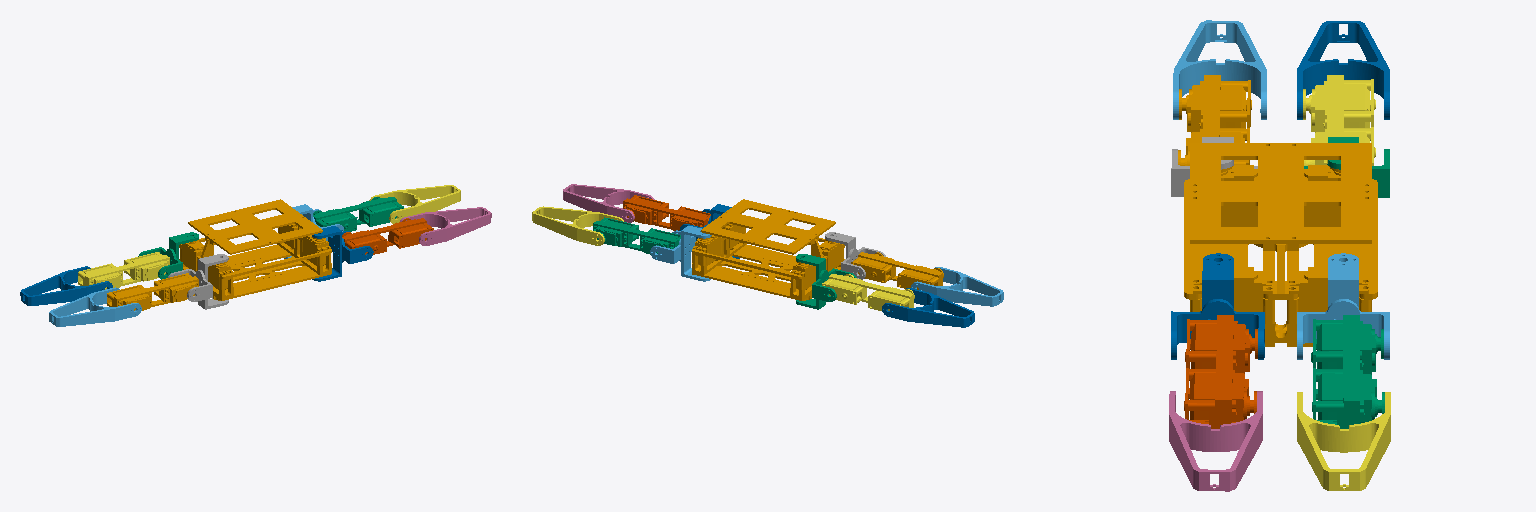
The robot description file, URDF, robot "SpiderRobot":
<?xml version='1.0' encoding='utf-8'?>
<robot name="SpiderRobot">
    <link name="base_link">
        <inertial>
            <origin xyz="-0.010492703972411217 0.016854730626846903 0.07862425311946987" rpy="0.0 0.0 0.0" />
            <mass value="0.631" />
            <inertia ixx="0.0005393004159345456" iyy="0.001539774473363255" izz="0.0017494035587408148" ixy="-5.404786737587164e-10" iyz="2.1940389012976153e-11" ixz="2.3999350412789305e-11" />
        </inertial>
        <visual name="base_link_visual">
            <origin xyz="0.0 0.0 0.0" rpy="0.0 0.0 0.0" />
            <geometry>
                <mesh filename="meshes/base_link.stl" scale="0.001 0.001 0.001" />
            </geometry>
        </visual>
        <collision name="base_link_collision">
            <origin xyz="0.0 0.0 0.0" rpy="0.0 0.0 0.0" />
            <geometry>
                <mesh filename="meshes/base_link.stl" scale="0.001 0.001 0.001" />
            </geometry>
        </collision>
    </link>
    <link name="old_component-1">
        <inertial>
            <origin xyz="0.03102946178102161 0.0004117198775454867 0.03072335867217019" rpy="0.0 -0.0 0.0" />
            <mass value="0.02" />
            <inertia ixx="1.6385663510255012e-05" iyy="1.5781203506995683e-05" izz="1.2529309357035321e-05" ixy="-1.7196919709375536e-09" iyz="-1.1559686412983363e-09" ixz="4.063183613644339e-07" />
        </inertial>
        <visual name="old_component-1_visual">
            <origin xyz="-0.089904494461947 -0.013444060076469953 0.1050114200000001" rpy="3.14159265358979 1.426096220858511e-15 0.8552113334772216" />
            <geometry>
                <mesh filename="meshes/old_component-1.stl" scale="0.001 0.001 0.001" />
            </geometry>
        </visual>
        <collision name="old_component-1_collision">
            <origin xyz="-0.089904494461947 -0.013444060076469953 0.1050114200000001" rpy="3.14159265358979 1.426096220858511e-15 0.8552113334772216" />
            <geometry>
                <mesh filename="meshes/old_component-1.stl" scale="0.001 0.001 0.001" />
            </geometry>
        </collision>
    </link>
    <link name="old_component-2">
        <inertial>
            <origin xyz="-0.012078915635495378 0.0004231775870821597 0.053302382171146745" rpy="-4.930380657631325e-32 -5.551115123125802e-17 0.0" />
            <mass value="0.132" />
            <inertia ixx="8.999721353340443e-05" iyy="0.00015419103668737246" izz="7.157474512508272e-05" ixy="8.041403117809183e-07" iyz="-9.251142480266983e-07" ixz="6.548213257115523e-05" />
        </inertial>
        <visual name="old_component-2_visual">
            <origin xyz="0.11789668043057783 -0.033070670955184206 -0.11611383377537308" rpy="0.04504787942929391 -1.0870290254427395 1.0462660169801645" />
            <geometry>
                <mesh filename="meshes/old_component-2.stl" scale="0.001 0.001 0.001" />
            </geometry>
        </visual>
        <collision name="old_component-2_collision">
            <origin xyz="0.11789668043057783 -0.033070670955184206 -0.11611383377537308" rpy="0.04504787942929391 -1.0870290254427395 1.0462660169801645" />
            <geometry>
                <mesh filename="meshes/old_component-2.stl" scale="0.001 0.001 0.001" />
            </geometry>
        </collision>
    </link>
    <link name="old_component-3">
        <inertial>
            <origin xyz="-0.01389080177375341 2.2486721616967743e-05 0.057134371947469766" rpy="0.0 -5.551115123125929e-17 1.972152263052529e-31" />
            <mass value="0.02" />
            <inertia ixx="2.0003607439611914e-05" iyy="3.6923520836752306e-05" izz="1.8209088187293617e-05" ixy="2.7707383460366487e-09" iyz="-3.1870410300825655e-09" ixz="6.384367080409719e-06" />
        </inertial>
        <visual name="old_component-3_visual">
            <origin xyz="0.15843455842305929 0.13413047804768943 -0.1627473281024277" rpy="1.5707963267948668 -1.4283250117908537 3.492401425236773e-14" />
            <geometry>
                <mesh filename="meshes/old_component-3.stl" scale="0.001 0.001 0.001" />
            </geometry>
        </visual>
        <collision name="old_component-3_collision">
            <origin xyz="0.15843455842305929 0.13413047804768943 -0.1627473281024277" rpy="1.5707963267948668 -1.4283250117908537 3.492401425236773e-14" />
            <geometry>
                <mesh filename="meshes/old_component-3.stl" scale="0.001 0.001 0.001" />
            </geometry>
        </collision>
    </link>
    <link name="old_component-4">
        <inertial>
            <origin xyz="0.03103155557710574 -0.00019893432534689559 0.030723358672170447" rpy="0.0 -0.0 0.0" />
            <mass value="0.02" />
            <inertia ixx="1.6385611500665045e-05" iyy="1.5781255516586002e-05" izz="1.252930935703543e-05" ixy="5.86449933099234e-09" iyz="3.942257449335776e-09" ixz="4.0630088069267305e-07" />
        </inertial>
        <visual name="old_component-4_visual">
            <origin xyz="-0.07091958465062607 0.020133790202536223 0.10501142000000004" rpy="-3.1415926535897922 6.076155069330333e-16 -0.6283185307179586" />
            <geometry>
                <mesh filename="meshes/old_component-4.stl" scale="0.001 0.001 0.001" />
            </geometry>
        </visual>
        <collision name="old_component-4_collision">
            <origin xyz="-0.07091958465062607 0.020133790202536223 0.10501142000000004" rpy="-3.1415926535897922 6.076155069330333e-16 -0.6283185307179586" />
            <geometry>
                <mesh filename="meshes/old_component-4.stl" scale="0.001 0.001 0.001" />
            </geometry>
        </collision>
    </link>
    <link name="old_component-5">
        <inertial>
            <origin xyz="-0.054153298556427816 0.00024343855998635534 -0.007388070552461521" rpy="0.0 1.788299075030976e-30 3.94430452610506e-31" />
            <mass value="0.132" />
            <inertia ixx="6.0339114665232976e-05" iyy="0.00015419824322008288" izz="0.00010122563746053573" ixy="5.702804284819931e-07" iyz="4.1432507083616714e-07" ixz="-6.289122469105593e-05" />
        </inertial>
        <visual name="old_component-5_visual">
            <origin xyz="0.05368391525099134 0.11236511625652795 0.09873160825334085" rpy="-1.0503560312606595 1.196872044719194 -2.3944219657117" />
            <geometry>
                <mesh filename="meshes/old_component-5.stl" scale="0.001 0.001 0.001" />
            </geometry>
        </visual>
        <collision name="old_component-5_collision">
            <origin xyz="0.05368391525099134 0.11236511625652795 0.09873160825334085" rpy="-1.0503560312606595 1.196872044719194 -2.3944219657117" />
            <geometry>
                <mesh filename="meshes/old_component-5.stl" scale="0.001 0.001 0.001" />
            </geometry>
        </collision>
    </link>
    <link name="old_component-6">
        <inertial>
            <origin xyz="-0.05812721974879004 0.0002275188699042552 -0.008858069998565626" rpy="0.0 1.5940287001806524e-30 -1.9721522630525295e-31" />
            <mass value="0.02" />
            <inertia ixx="1.711435228560356e-05" iyy="3.692311382053927e-05" izz="2.109875041733102e-05" ixy="8.046981620175196e-08" iyz="5.846504071249403e-08" ixz="-6.131373154729799e-06" />
        </inertial>
        <visual name="old_component-6_visual">
            <origin xyz="0.0019442821291753632 0.22409798456225297 0.061140556936100154" rpy="-0.7627196966262243 0.7089813556914147 -1.4157694678761308" />
            <geometry>
                <mesh filename="meshes/old_component-6.stl" scale="0.001 0.001 0.001" />
            </geometry>
        </visual>
        <collision name="old_component-6_collision">
            <origin xyz="0.0019442821291753632 0.22409798456225297 0.061140556936100154" rpy="-0.7627196966262243 0.7089813556914147 -1.4157694678761308" />
            <geometry>
                <mesh filename="meshes/old_component-6.stl" scale="0.001 0.001 0.001" />
            </geometry>
        </collision>
    </link>
    <link name="old_component-7">
        <inertial>
            <origin xyz="-0.0310269955658009 -0.0002694736693105559 0.0307233586721685" rpy="0.0 -0.0 0.0" />
            <mass value="0.02" />
            <inertia ixx="1.638562281137932e-05" iyy="1.578124420586861e-05" izz="1.2529309357034741e-05" ixy="5.249431020174559e-09" iyz="-3.528760717135563e-09" ixz="-4.063046823417083e-07" />
        </inertial>
        <visual name="old_component-7_visual">
            <origin xyz="0.08899902371014586 0.029880857266960003 0.10501141999999998" rpy="3.1415926535897847 2.742912123620933e-15 0.5934119456780722" />
            <geometry>
                <mesh filename="meshes/old_component-7.stl" scale="0.001 0.001 0.001" />
            </geometry>
        </visual>
        <collision name="old_component-7_collision">
            <origin xyz="0.08899902371014586 0.029880857266960003 0.10501141999999998" rpy="3.1415926535897847 2.742912123620933e-15 0.5934119456780722" />
            <geometry>
                <mesh filename="meshes/old_component-7.stl" scale="0.001 0.001 0.001" />
            </geometry>
        </collision>
    </link>
    <link name="old_component-8">
        <inertial>
            <origin xyz="0.025463307838115946 0.00037946077815075973 -0.04836008762973711" rpy="0.0 5.5511151231204406e-17 0.0" />
            <mass value="0.132" />
            <inertia ixx="5.602062521880616e-05" iyy="0.00015419314736253445" izz="0.00010554922276451151" ixy="-9.11158338672918e-07" iyz="6.146198571155171e-07" ixz="6.131578590601326e-05" />
        </inertial>
        <visual name="old_component-8_visual">
            <origin xyz="-0.09048318739721153 0.12611224452653746 0.06357295300891266" rpy="-1.0935824683911428 -1.0972181992765881 2.387109004225004" />
            <geometry>
                <mesh filename="meshes/old_component-8.stl" scale="0.001 0.001 0.001" />
            </geometry>
        </visual>
        <collision name="old_component-8_collision">
            <origin xyz="-0.09048318739721153 0.12611224452653746 0.06357295300891266" rpy="-1.0935824683911428 -1.0972181992765881 2.387109004225004" />
            <geometry>
                <mesh filename="meshes/old_component-8.stl" scale="0.001 0.001 0.001" />
            </geometry>
        </collision>
    </link>
    <link name="old_component-9">
        <inertial>
            <origin xyz="0.028204740134456934 -0.00016261076836492804 0.051592227779338556" rpy="0.0 2.4112073883187802e-30 0.0" />
            <mass value="0.02" />
            <inertia ixx="1.669134760786045e-05" iyy="3.6923323123720406e-05" izz="2.152154189479002e-05" ixy="5.7469970104011684e-08" iyz="3.8764203722642636e-08" ixz="-5.977562400932342e-06" />
        </inertial>
        <visual name="old_component-9_visual">
            <origin xyz="-0.1913706422508313 -0.06754266025038982 -0.1316223896966527" rpy="1.7460149632316804 1.1691532135127878 -2.878622944430285" />
            <geometry>
                <mesh filename="meshes/old_component-9.stl" scale="0.001 0.001 0.001" />
            </geometry>
        </visual>
        <collision name="old_component-9_collision">
            <origin xyz="-0.1913706422508313 -0.06754266025038982 -0.1316223896966527" rpy="1.7460149632316804 1.1691532135127878 -2.878622944430285" />
            <geometry>
                <mesh filename="meshes/old_component-9.stl" scale="0.001 0.001 0.001" />
            </geometry>
        </collision>
    </link>
    <link name="old_component-10">
        <inertial>
            <origin xyz="-0.031028283796983518 0.0004926140661012824 0.030723358672169417" rpy="0.0 -0.0 0.0" />
            <mass value="0.02" />
            <inertia ixx="1.6385668368532665e-05" iyy="1.5781198648714696e-05" izz="1.2529309357033213e-05" ixy="1.4381222959444107e-10" iyz="-9.666942523237977e-11" ixz="-4.063199942160301e-07" />
        </inertial>
        <visual name="old_component-10_visual">
            <origin xyz="0.10717883157334777 0.012659234612209351 0.10501142000000005" rpy="-3.141592653589792 4.3563786373477336e-16 -0.4625122517784973" />
            <geometry>
                <mesh filename="meshes/old_component-10.stl" scale="0.001 0.001 0.001" />
            </geometry>
        </visual>
        <collision name="old_component-10_collision">
            <origin xyz="0.10717883157334777 0.012659234612209351 0.10501142000000005" rpy="-3.141592653589792 4.3563786373477336e-16 -0.4625122517784973" />
            <geometry>
                <mesh filename="meshes/old_component-10.stl" scale="0.001 0.001 0.001" />
            </geometry>
        </collision>
    </link>
    <link name="old_component-11">
        <inertial>
            <origin xyz="0.05462949872374166 -0.00033719224539667357 0.0016513710725272856" rpy="0.0 -7.322457863806832e-31 -9.860761315262648e-32" />
            <mass value="0.132" />
            <inertia ixx="4.0980134776176145e-05" iyy="0.00015419496938089746" izz="0.00012058789118877527" ixy="8.739932308661696e-07" iyz="-4.3573187080583893e-07" ixz="5.280783901805117e-05" />
        </inertial>
        <visual name="old_component-11_visual">
            <origin xyz="-0.1434309473223345 -0.07551142000000001 0.08812359672937642" rpy="1.5707963267949008 -0.9252624180835088 3.1415926535897913" />
            <geometry>
                <mesh filename="meshes/old_component-11.stl" scale="0.001 0.001 0.001" />
            </geometry>
        </visual>
        <collision name="old_component-11_collision">
            <origin xyz="-0.1434309473223345 -0.07551142000000001 0.08812359672937642" rpy="1.5707963267949008 -0.9252624180835088 3.1415926535897913" />
            <geometry>
                <mesh filename="meshes/old_component-11.stl" scale="0.001 0.001 0.001" />
            </geometry>
        </collision>
    </link>
    <link name="old_component-12">
        <inertial>
            <origin xyz="0.0587919529058307 -0.0002470349453861065 0.0008572259774891223" rpy="0.0 -3.761350537230823e-29 0.0" />
            <mass value="0.02" />
            <inertia ixx="1.5226777919671073e-05" iyy="3.6923038227672234e-05" izz="2.2986412681345016e-05" ixy="9.712598883513797e-08" iyz="-4.842445208534221e-08" ixz="5.148700602117244e-06" />
        </inertial>
        <visual name="old_component-12_visual">
            <origin xyz="-0.23837325442314888 -0.018317329250776577 0.13546008555522104" rpy="1.7227078877506015 -0.9108965112200583 2.833248911052355" />
            <geometry>
                <mesh filename="meshes/old_component-12.stl" scale="0.001 0.001 0.001" />
            </geometry>
        </visual>
        <collision name="old_component-12_collision">
            <origin xyz="-0.23837325442314888 -0.018317329250776577 0.13546008555522104" rpy="1.7227078877506015 -0.9108965112200583 2.833248911052355" />
            <geometry>
                <mesh filename="meshes/old_component-12.stl" scale="0.001 0.001 0.001" />
            </geometry>
        </collision>
    </link>
    <joint name="base_link_Revolute-16" type="revolute">
        <origin xyz="0.06950730000000001 -0.02499527 0.10501142" rpy="-3.1415926535897922 -0.0 0.0" />
        <parent link="base_link" />
        <child link="old_component-4" />
        <axis xyz="0.0 8.767496532704802e-16 1.0" />
        <limit lower="-0.174533" upper="1.745329" effort="1000000" velocity="1000000" />
    </joint>
    <joint name="old_component-4_Revolute-17" type="revolute">
        <origin xyz="0.06076397000000009 -0.026911719999999972 0.02950000000000002" rpy="1.5707963267948988 -1.6737077601857826e-15 -2.5035716242187003" />
        <parent link="old_component-4" />
        <child link="old_component-5" />
        <axis xyz="-0.5877855715865794 1.933247177549459e-15 0.8090168433646102" />
        <limit lower="-1.570796" upper="1.570796" effort="1000000" velocity="1000000" />
    </joint>
    <joint name="old_component-5_Revolute-18" type="revolute">
        <origin xyz="-0.07790733914060267 0.0004867999999999917 -0.05660298765854073" rpy="-3.0304190599900487e-15 -5.495603971894528e-15 -2.2304404970582236e-15" />
        <parent link="old_component-5" />
        <child link="old_component-6" />
        <axis xyz="-0.5877855715865749 -1.8391505533463967e-15 0.8090168433646133" />
        <limit lower="-2.530727" upper="0.610865" effort="1000000" velocity="1000000" />
    </joint>
    <joint name="base_link_Revolute-19" type="revolute">
        <origin xyz="0.06950730000000001 0.05870473 0.10501142" rpy="-3.141592653589793 -0.0 0.0" />
        <parent link="base_link" />
        <child link="old_component-1" />
        <axis xyz="0.0 2.383714141106892e-16 1.0" />
        <limit lower="-1.745329" upper="0.174533" effort="1000000" velocity="1000000" />
    </joint>
    <joint name="old_component-1_Revolute-20" type="revolute">
        <origin xyz="0.06042436000000012 -0.026672019999999998 0.029500000000000002" rpy="1.5707963267948963 -2.8588975786434127e-16 2.2835363452680895" />
        <parent link="old_component-1" />
        <child link="old_component-2" />
        <axis xyz="0.7547095967759417 -6.162436020688548e-16 0.6560590816194038" />
        <limit lower="-1.570796" upper="1.570796" effort="1000000" velocity="1000000" />
    </joint>
    <joint name="old_component-2_Revolute-21" type="revolute">
        <origin xyz="-0.06317604366504959 0.0008462499999999996 0.0726757249142067" rpy="1.5541689394040021e-15 -1.13242748511766e-14 -1.7495814923424326e-15" />
        <parent link="old_component-2" />
        <child link="old_component-3" />
        <axis xyz="0.754709596775949 1.696413591425633e-15 0.6560590816193954" />
        <limit lower="-2.530727" upper="0.610865" effort="1000000" velocity="1000000" />
    </joint>
    <joint name="base_link_Revolute-22" type="revolute">
        <origin xyz="-0.0904927 0.05870473 0.10501142" rpy="-3.141592653589793 -0.0 0.0" />
        <parent link="base_link" />
        <child link="old_component-10" />
        <axis xyz="0.0 2.383714141106757e-16 1.0" />
        <limit lower="-0.174533" upper="1.745329" effort="1000000" velocity="1000000" />
    </joint>
    <joint name="old_component-10_Revolute-23" type="revolute">
        <origin xyz="-0.06050653999999987 0.027485600000000002 0.029499999999999995" rpy="-1.5707963267948952 -7.108135939242082e-16 -2.678842487284782" />
        <parent link="old_component-10" />
        <child link="old_component-11" />
        <axis xyz="0.4461977492578815 1.3539147131765274e-15 0.8949344250844309" />
        <limit lower="-1.570796" upper="1.570796" effort="1000000" velocity="1000000" />
    </joint>
    <joint name="old_component-11_Revolute-24" type="revolute">
        <origin xyz="0.08618006914486669 -0.0006742999999999988 -0.042967798135623514" rpy="7.47157138968087e-15 8.04911692853238e-15 -3.72740781796117e-15" />
        <parent link="old_component-11" />
        <child link="old_component-12" />
        <axis xyz="0.4461977492578743 9.703642138218392e-15 0.8949344250844344" />
        <limit lower="-2.530727" upper="0.610865" effort="1000000" velocity="1000000" />
    </joint>
    <joint name="base_link_Revolute-25" type="revolute">
        <origin xyz="-0.0904927 -0.02499527 0.10501142" rpy="3.141592653589793 -0.0 0.0" />
        <parent link="base_link" />
        <child link="old_component-7" />
        <axis xyz="-0.0 -2.841186225143736e-16 1.0" />
        <limit lower="-1.745329" upper="0.174533" effort="1000000" velocity="1000000" />
    </joint>
    <joint name="old_component-7_Revolute-26" type="revolute">
        <origin xyz="-0.06073220999999952 0.026473549999999985 0.02950000000000002" rpy="1.5707963267948875 -6.103684292581664e-15 2.556865500768012" />
        <parent link="old_component-7" />
        <child link="old_component-8" />
        <axis xyz="0.5591930085878827 -1.077343425126582e-14 0.8290371582838928" />
        <limit lower="-1.570796" upper="1.570796" effort="1000000" velocity="1000000" />
    </joint>
    <joint name="old_component-8_Revolute-27" type="revolute">
        <origin xyz="0.07983383742429866 0.0007588300000000015 -0.05384859242132095" rpy="-3.1415926535897825 -4.551914400963129e-15 -7.235940807032957e-15" />
        <parent link="old_component-8" />
        <child link="old_component-9" />
        <axis xyz="-0.5591930085878867 2.2802967627146697e-15 0.8290371582838904" />
        <limit lower="-2.530727" upper="0.610865" effort="1000000" velocity="1000000" />
    </joint>
</robot>

--- Facts derived from the render (not from the file) ---
3 views of the same robot in one strip: view 1: azimuth 30°, elevation 25°; view 2: azimuth 150°, elevation 25°; view 3: azimuth 270°, elevation 25° (orthographic).
Model SpiderRobot with 13 links and 12 joints (12 revolute), rooted at base_link, posed all joints at 0.
Links seen in each view (by area): view 1: base_link, old_component-9, old_component-11, old_component-8, old_component-6, old_component-12, old_component-5, old_component-2, old_component-3, old_component-4, old_component-7, old_component-10; view 2: base_link, old_component-12, old_component-3, old_component-11, old_component-8, old_component-9, old_component-2, old_component-5, old_component-6, old_component-1, old_component-10, old_component-7; view 3: base_link, old_component-5, old_component-2, old_component-6, old_component-3, old_component-9, old_component-8, old_component-12, old_component-11, old_component-4, old_component-1, old_component-7 (+1 smaller).
Link boxes in pixels (<box>): base_link: <box>179,199,331,300</box>; old_component-9: <box>49,287,141,326</box>; old_component-11: <box>78,252,169,289</box>; old_component-8: <box>107,273,198,310</box>; old_component-6: <box>400,207,491,245</box>; old_component-12: <box>20,266,112,305</box>; old_component-5: <box>342,218,433,254</box>; old_component-2: <box>313,197,403,231</box>; old_component-3: <box>369,185,460,223</box>; old_component-4: <box>312,226,373,281</box>; old_component-7: <box>168,254,228,309</box>; old_component-10: <box>138,232,198,279</box>; base_link: <box>692,199,844,300</box>; old_component-12: <box>882,288,974,327</box>; old_component-3: <box>532,206,623,245</box>; old_component-11: <box>822,274,914,310</box>; old_component-8: <box>851,252,943,289</box>; old_component-9: <box>911,267,1003,306</box>; old_component-2: <box>593,217,680,254</box>; old_component-5: <box>623,195,710,230</box>; old_component-6: <box>563,184,654,222</box>; old_component-1: <box>650,226,711,281</box>; old_component-10: <box>796,254,856,309</box>; old_component-7: <box>825,232,885,279</box>; base_link: <box>1184,143,1377,346</box>; old_component-5: <box>1184,315,1257,428</box>; old_component-2: <box>1311,315,1384,428</box>; old_component-6: <box>1169,391,1262,491</box>; old_component-3: <box>1297,392,1390,490</box>; old_component-9: <box>1173,20,1266,119</box>; old_component-8: <box>1178,75,1251,165</box>; old_component-12: <box>1297,21,1389,119</box>; old_component-11: <box>1303,75,1375,165</box>; old_component-4: <box>1171,253,1264,359</box>; old_component-1: <box>1297,253,1389,359</box>; old_component-7: <box>1171,137,1257,196</box>.
Bounding box of the posed robot: 0.709 × 0.1471 × 0.0836 m (x, y, z).
13 mesh visuals loaded from 13 distinct referenced files (13 binary STL).
